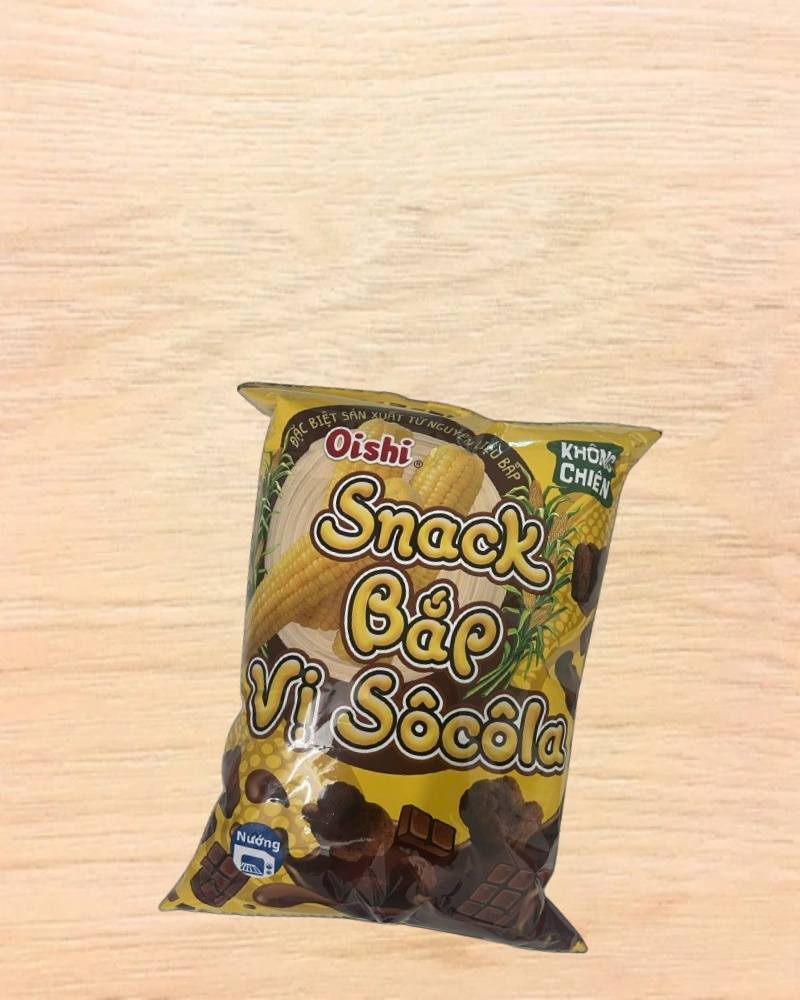Snack socola: (151, 361, 679, 974)
